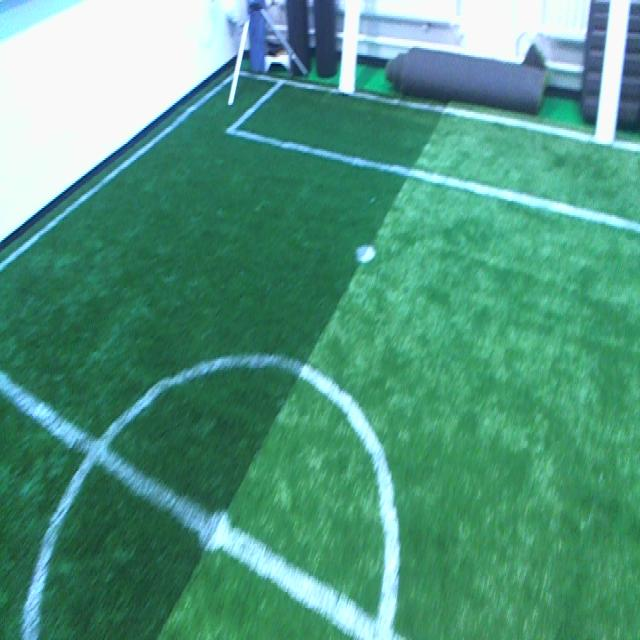goalpost: (592, 4, 633, 146), (335, 4, 363, 96)
